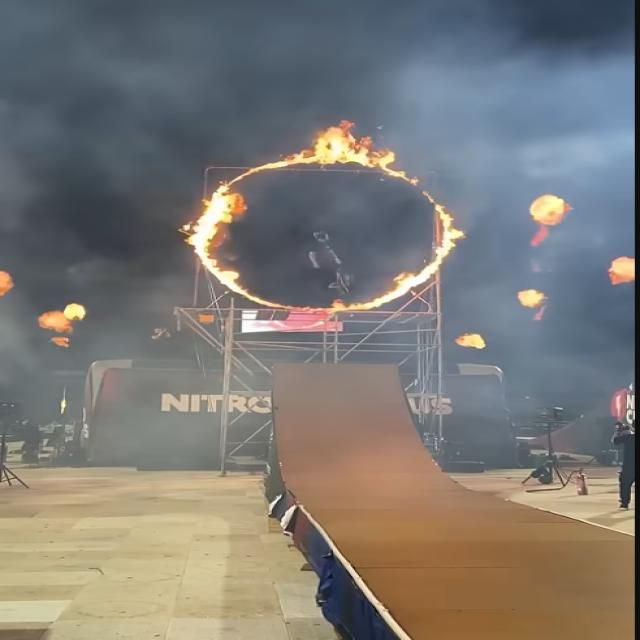fire: (178, 184, 248, 253), (312, 121, 395, 169), (422, 227, 464, 281), (194, 252, 239, 291), (374, 272, 421, 309), (229, 160, 287, 183)
